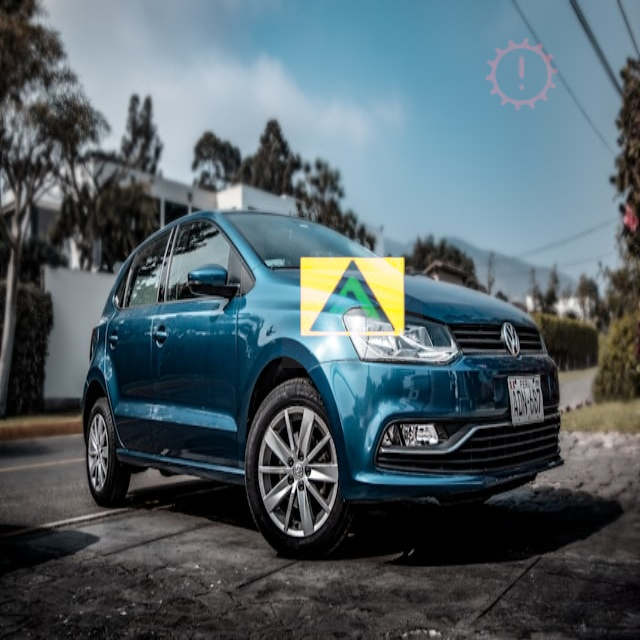symbol: (282, 227, 423, 368), (455, 8, 589, 142)
